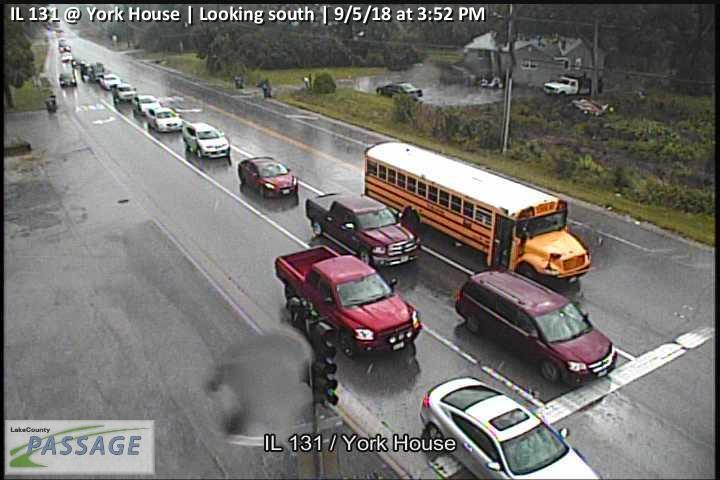Bus: (362, 139, 592, 290)
Sedan: (455, 266, 617, 383), (420, 376, 600, 480), (237, 155, 298, 198), (182, 122, 230, 158), (144, 105, 183, 132), (131, 94, 161, 115), (106, 82, 136, 101), (99, 73, 122, 90)
Truck: (273, 242, 421, 359), (305, 188, 423, 267), (544, 72, 602, 94), (374, 81, 423, 100)
